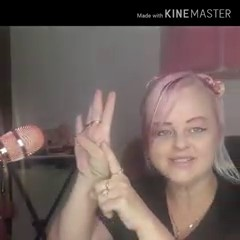Y: (68, 86, 142, 233)
